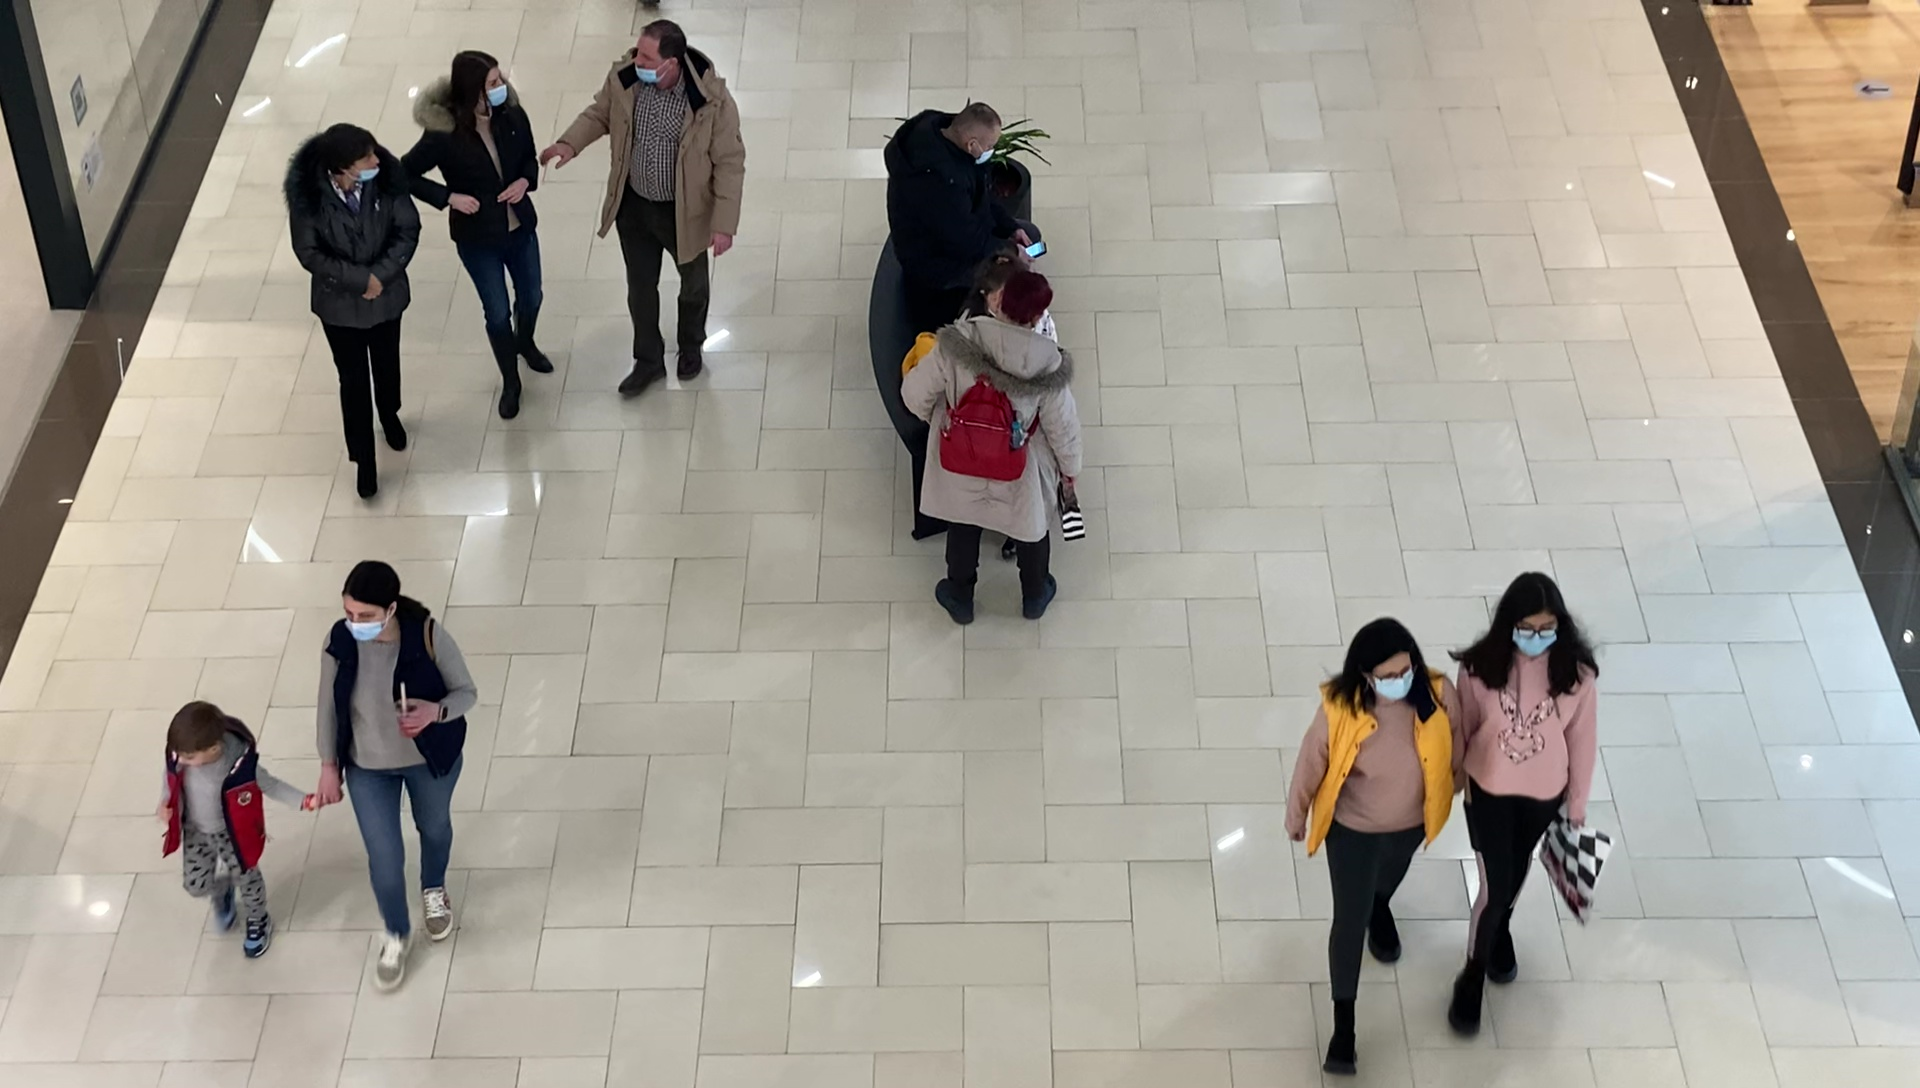person: (1286, 616, 1463, 1076), (552, 18, 747, 394), (1450, 572, 1603, 1035), (316, 561, 477, 990), (410, 53, 556, 421), (285, 122, 421, 498), (158, 703, 290, 956)
